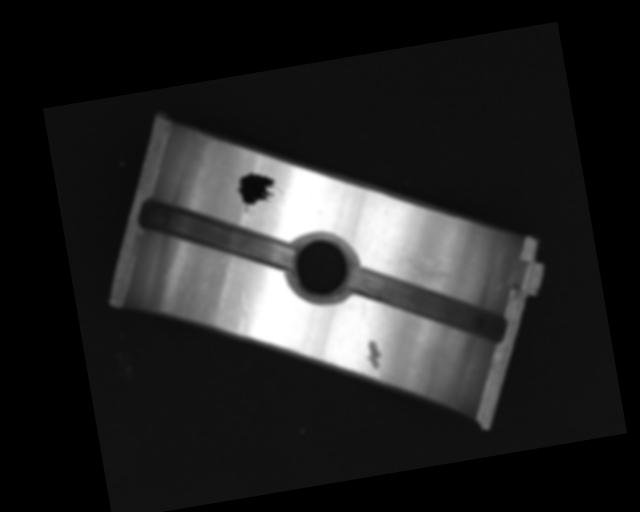blot: (232, 167, 285, 214)
bruise: (363, 337, 384, 371)
gap: (348, 246, 505, 361), (137, 175, 295, 286)
hole: (281, 226, 363, 307)
nick: (230, 290, 257, 335)
scratch: (390, 238, 459, 289)
